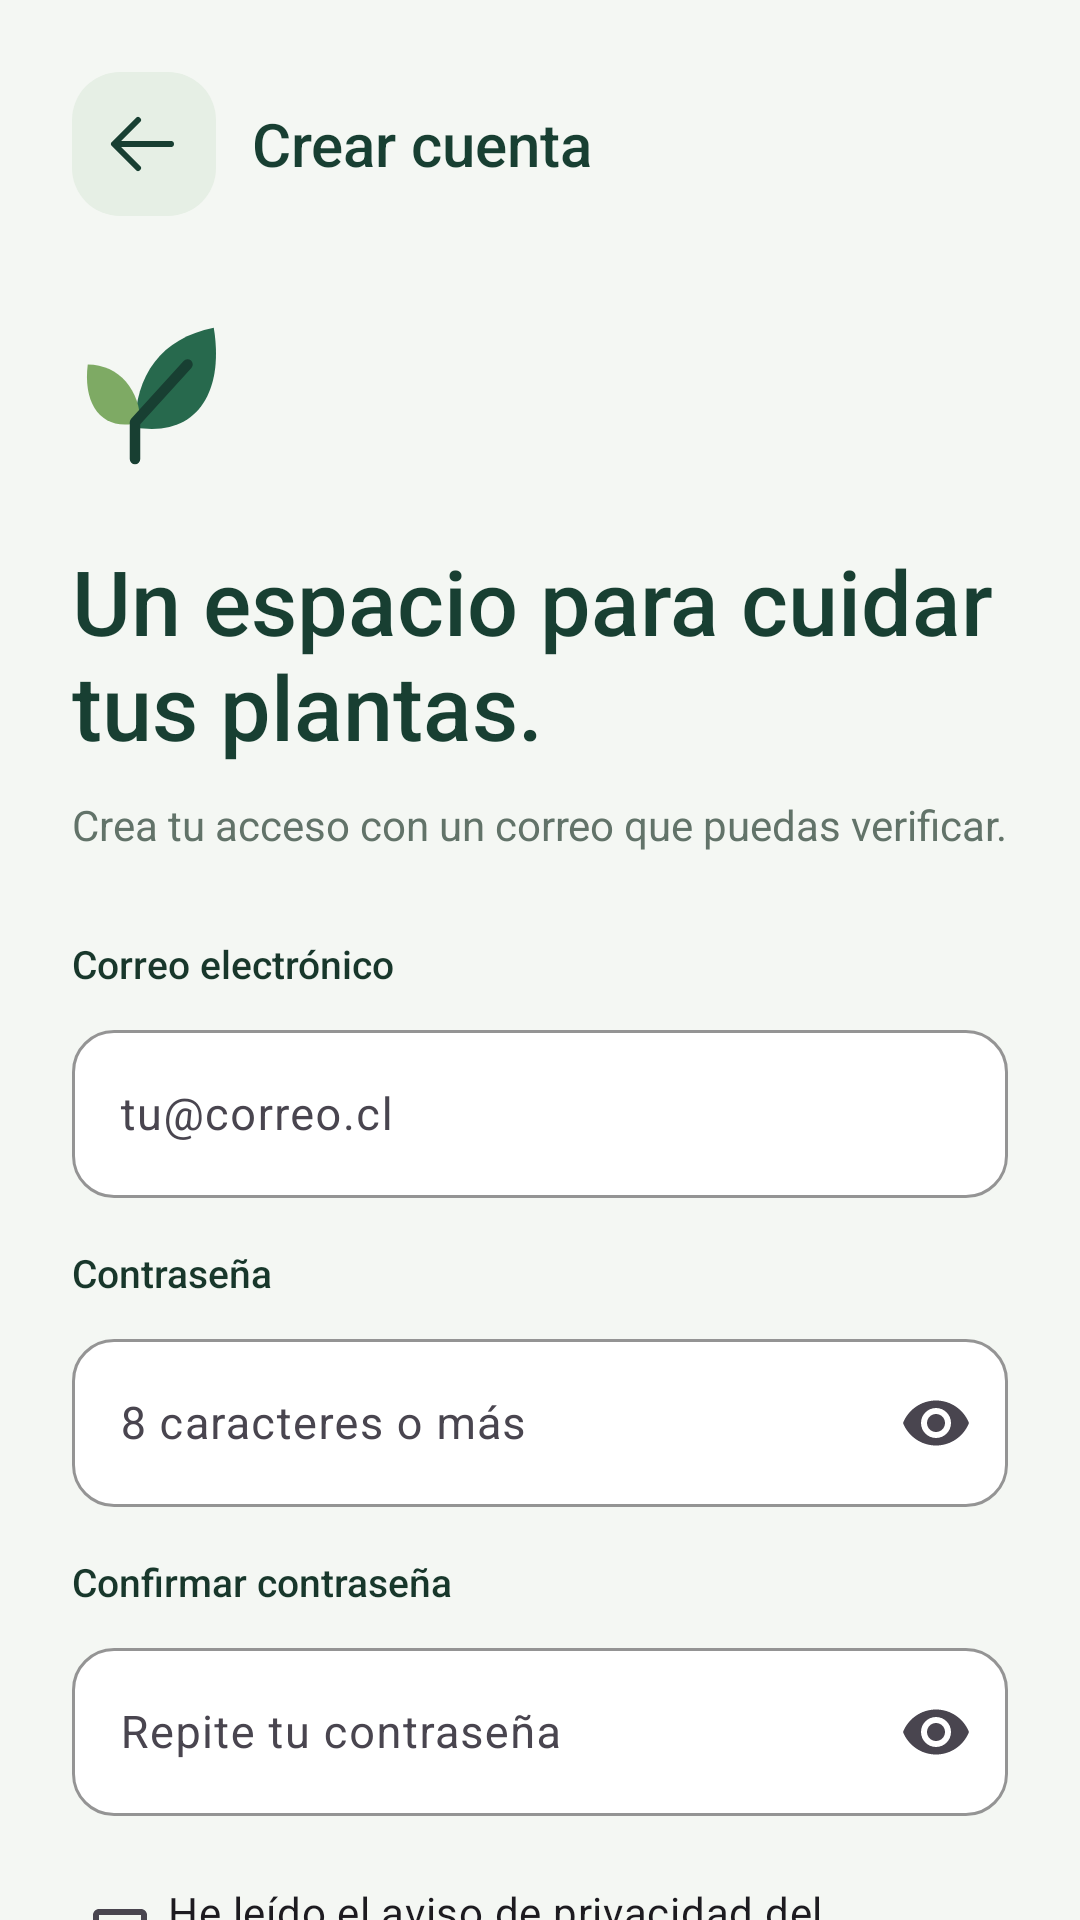

Point at icon controls on the screen. Image size 1080 × 1920, points as (x,y).
leaf: (151,396)
Volver al inicio: (144,144)
